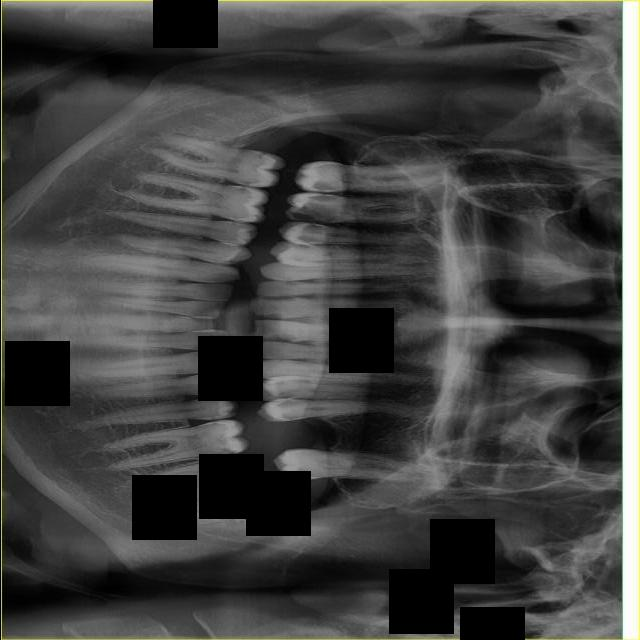72: (175, 492, 244, 535)
Sterngold Implant: (213, 483, 260, 526), (290, 203, 335, 224), (310, 178, 344, 195), (305, 190, 340, 205), (258, 332, 300, 344), (269, 390, 304, 402), (292, 234, 323, 246), (215, 443, 239, 458), (301, 222, 326, 235), (214, 453, 240, 465), (289, 466, 312, 479), (273, 398, 300, 409), (281, 411, 305, 421), (232, 465, 247, 479), (257, 313, 284, 320), (264, 296, 299, 301), (254, 151, 272, 160), (235, 186, 252, 195), (238, 179, 255, 188), (289, 242, 306, 250), (216, 434, 227, 446), (205, 421, 224, 427), (236, 482, 252, 489), (227, 221, 242, 228), (283, 281, 297, 287), (206, 416, 221, 421), (270, 381, 282, 386)
